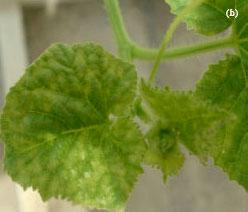Tomato leaf mosaic virus: (5, 46, 139, 208)
